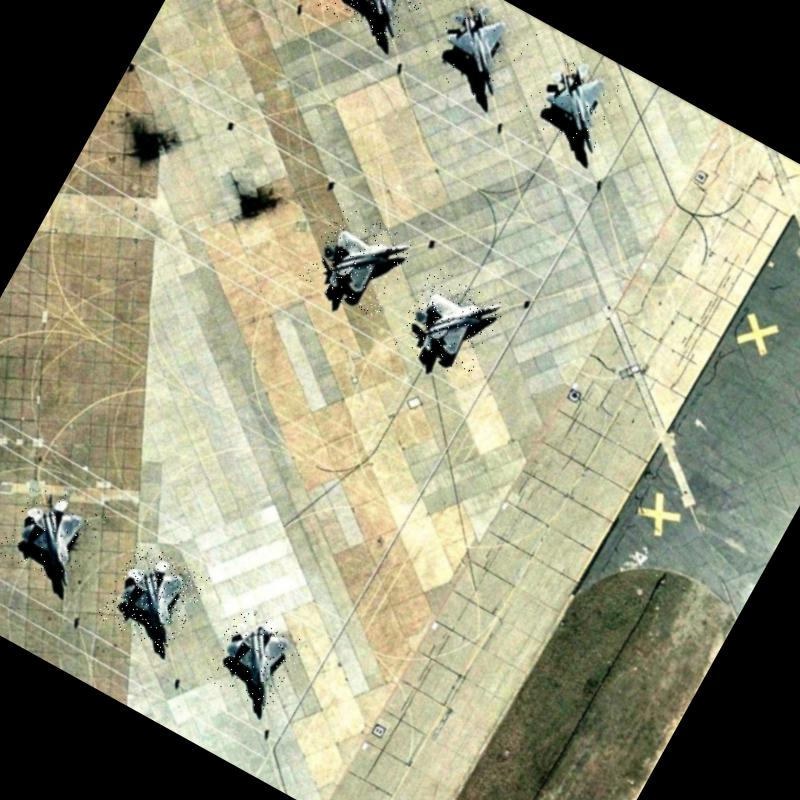A13: (414, 0, 540, 109), (516, 43, 634, 158), (313, 0, 440, 49)
A15: (297, 200, 418, 320), (390, 265, 508, 384), (95, 538, 210, 656), (0, 478, 109, 591), (200, 606, 307, 713)
